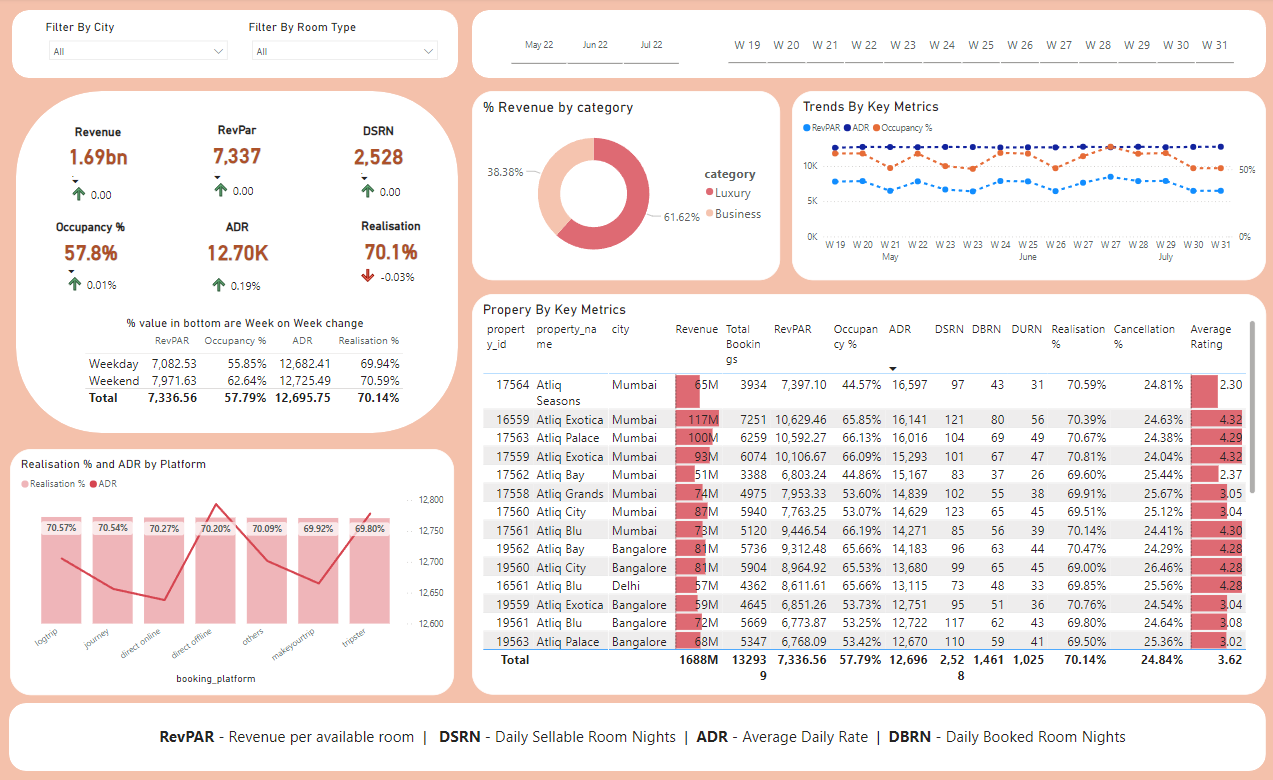

What the dashboard file says about the page in this screenshot:
{"tool":"powerbi","page":{"name":"Page 1","canvas":[1800,1100],"ordinal":0},"visuals":[{"type":"shape","box":[28.1,130.7,621.1,480.6],"z":0},{"type":"shape","box":[22.5,16.9,626.7,95.6],"z":1000},{"type":"shape","box":[668.9,16.9,1115.7,95.6],"z":2000},{"type":"tableEx","title":"Propery By Key Metrics","fields":{"Values":["dim_hotels.property_id","dim_hotels.property_name","dim_hotels.city","key_measures.Revenue","key_measures.Total Bookings","key_measures.RevPAR","key_measures.Occupancy %","key_measures.ADR","key_measures.DSRN","key_measures.DBRN","key_measures.DURN","key_measures.Realisation %"]},"box":[668.9,415.9,1115.7,563.5],"z":3000},{"type":"tableEx","fields":{"Values":["key_measures.Revenue WoW change %"]},"box":[95.8,232.2,88.5,66.4],"z":4000},{"type":"donutChart","title":"% Revenue by category","fields":{"Category":["dim_hotels.category"],"Y":["key_measures.Revenue"]},"box":[668.9,130.7,432.8,265.6],"z":5000},{"type":"tableEx","fields":{"Values":["key_measures.Revenue WoW change %"]},"box":[295.4,226.9,86.6,70],"z":6000},{"type":"tableEx","fields":{"Values":["key_measures.Revenue WoW change %"]},"box":[501.8,228.3,88.5,70],"z":7000},{"type":"tableEx","fields":{"Values":["key_measures.Occupancy WoW change %"]},"box":[89.9,358.3,92.7,66],"z":8000},{"type":"tableEx","fields":{"Values":["key_measures.ADR WoW change %"]},"box":[292.3,359.7,92.7,64.6],"z":9000},{"type":"tableEx","fields":{"Values":["key_measures.Realisation WoW change %"]},"box":[501.6,347.1,98.4,70.3],"z":10000},{"type":"lineStackedColumnComboChart","title":"Realisation % and ADR by Platform","fields":{"Category":["fact_bookings.booking_platform"],"Y":["key_measures.Realisation %"],"Y2":["key_measures.ADR"]},"box":[19.7,633.7,623.9,345.7],"z":11000},{"type":"lineChart","title":"Trends By Key Metrics","fields":{"Category":["dim_date.mmm yy.Variation.Date Hierarchy.Month","dim_date.week no"],"Y":["key_measures.RevPAR","key_measures.ADR"],"Y2":["key_measures.Occupancy %"]},"box":[1118.5,130.7,666,265.6],"z":12000},{"type":"card","title":"DSRN","fields":{"Values":["key_measures.DSRN"]},"box":[456.7,177,161.6,68.9],"z":13000},{"type":"card","title":"Revenue","fields":{"Values":["key_measures.Revenue"]},"box":[63.2,178.5,160.2,67.4],"z":14000},{"type":"card","title":"RevPar","fields":{"Values":["key_measures.RevPAR"]},"box":[267,175.6,143.3,70.3],"z":15000},{"type":"card","title":"Occupancy %","fields":{"Values":["key_measures.Occupancy %"]},"box":[63.2,311.9,139.1,70.3],"z":16000},{"type":"card","title":"ADR","fields":{"Values":["key_measures.ADR"]},"box":[266.8,312.2,143.9,68.9],"z":17000},{"type":"card","title":"Realisation","fields":{"Values":["key_measures.Realisation %"]},"box":[489,310.5,132.1,70.3],"z":18000},{"type":"slicer","title":"Filter By City","fields":{"Values":["dim_hotels.city"]},"box":[64.6,30.9,271.2,68.9],"z":19000},{"type":"slicer","title":"Filter By Room Type","fields":{"Values":["dim_rooms.room_class"]},"box":[349.9,30.9,281,67.4],"z":20000},{"type":"slicer","fields":{"Values":["dim_date.mmm yy"]},"box":[698.4,32.3,285.2,67.4],"z":21000},{"type":"slicer","fields":{"Values":["dim_date.week no"]},"box":[1003.3,32.3,760.2,66],"z":22000},{"type":"tableEx","title":"% value in bottom are Week on Week change","fields":{"Values":["dim_date.day_type","key_measures.RevPAR","key_measures.Occupancy %","key_measures.ADR","key_measures.Realisation %"]},"box":[119.4,446.8,460.9,134.9],"z":23000},{"type":"shape","box":[18.3,990.6,1766.3,95.6],"z":24000},{"type":"textbox","box":[53.4,1017.3,1710.1,46.4],"z":25000}]}

Visuals, with their boxes in screenshot pixels (x1, y1, x2, y2), scaled from the page's 1800x1100 canvas onto the 1273x780 screenshot:
shape: (left=20, top=93, right=459, bottom=433)
shape: (left=16, top=12, right=459, bottom=80)
shape: (left=473, top=12, right=1262, bottom=80)
"Propery By Key Metrics" tableEx: (left=473, top=295, right=1262, bottom=694)
tableEx - key_measures.Revenue WoW change %: (left=68, top=165, right=130, bottom=212)
"% Revenue by category" donutChart: (left=473, top=93, right=779, bottom=281)
tableEx - key_measures.Revenue WoW change %: (left=209, top=161, right=270, bottom=211)
tableEx - key_measures.Revenue WoW change %: (left=355, top=162, right=417, bottom=212)
tableEx - key_measures.Occupancy WoW change %: (left=64, top=254, right=129, bottom=301)
tableEx - key_measures.ADR WoW change %: (left=207, top=255, right=272, bottom=301)
tableEx - key_measures.Realisation WoW change %: (left=355, top=246, right=424, bottom=296)
"Realisation % and ADR by Platform" lineStackedColumnComboChart: (left=14, top=449, right=455, bottom=694)
"Trends By Key Metrics" lineChart: (left=791, top=93, right=1262, bottom=281)
"DSRN" card: (left=323, top=126, right=437, bottom=174)
"Revenue" card: (left=45, top=127, right=158, bottom=174)
"RevPar" card: (left=189, top=125, right=290, bottom=174)
"Occupancy %" card: (left=45, top=221, right=143, bottom=271)
"ADR" card: (left=189, top=221, right=290, bottom=270)
"Realisation" card: (left=346, top=220, right=439, bottom=270)
"Filter By City" slicer: (left=46, top=22, right=237, bottom=71)
"Filter By Room Type" slicer: (left=247, top=22, right=446, bottom=70)
slicer - dim_date.mmm yy: (left=494, top=23, right=696, bottom=71)
slicer - dim_date.week no: (left=710, top=23, right=1247, bottom=70)
"% value in bottom are Week on Week change" tableEx: (left=84, top=317, right=410, bottom=412)
shape: (left=13, top=702, right=1262, bottom=770)
textbox: (left=38, top=721, right=1247, bottom=754)
